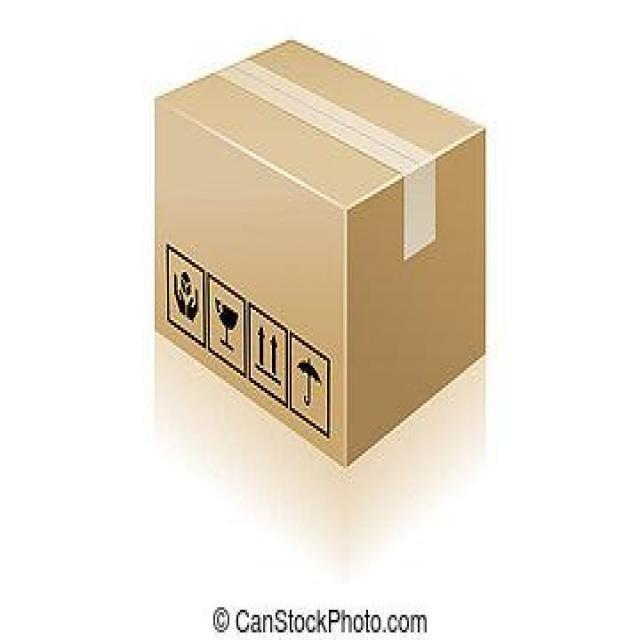box: (151, 36, 493, 475)
